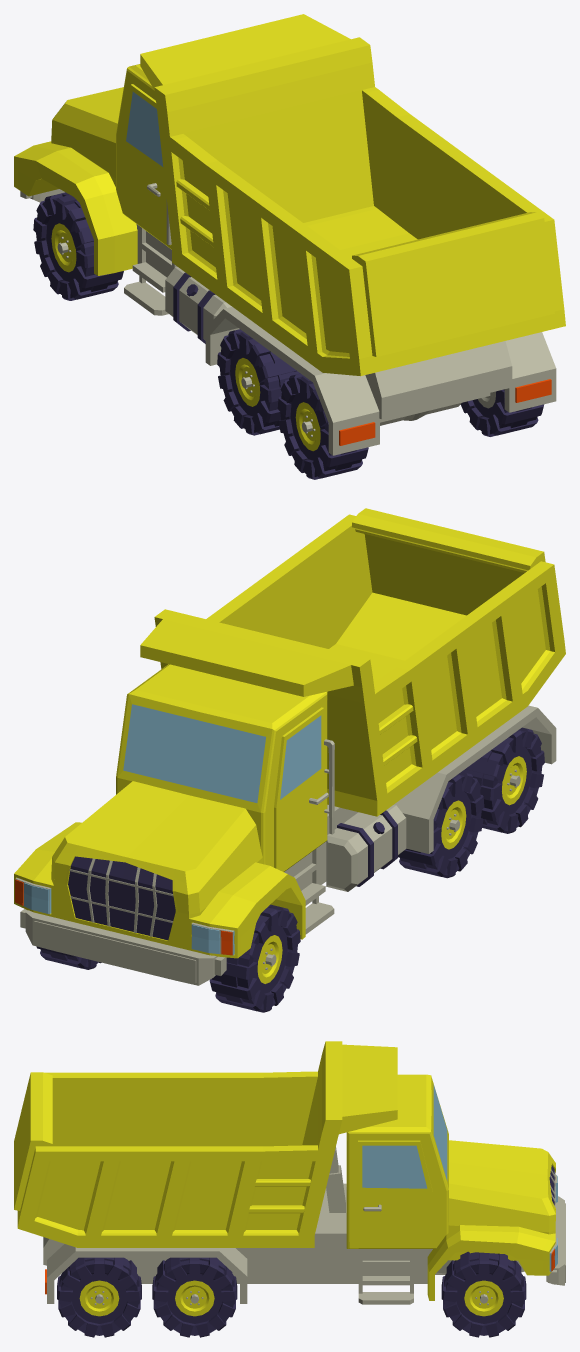
Rendered from truck.fbx.
3 views of the same model, one above another, from view 1: azimuth 30°, elevation 25°; view 2: azimuth 150°, elevation 25°; view 3: azimuth 270°, elevation 25° (orthographic). The views are drawn at different scales.
Parts seen in each view (by area): view 1: Cube.039, Cube.040, Cube.025, Cube.024, Cube.026, Cylinder.009, Cylinder.011, Cylinder.010, Cube.028, Cube.029, Cube.041, Cube.033 (+4 smaller); view 2: Cube.039, Cube.028, Cube.027, Cube.040, Cube.048, Cube.031, Cube.026, Cube.032, Cylinder.011, Cylinder.009, Cube.025, Cylinder.010 (+9 smaller); view 3: Cube.039, Cube.028, Cube.024, Cube.027, Cylinder.011, Cylinder.010, Cylinder.009, Cube.029, Cube.026, Cube.040, Cube.025, Cube.030 (+4 smaller).
Part boxes in pixels (<box>): Cube.039: <box>140,14,565,376</box>; Cube.040: <box>352,212,554,356</box>; Cube.025: <box>205,306,556,455</box>; Cube.024: <box>136,224,512,422</box>; Cube.026: <box>14,141,137,275</box>; Cylinder.009: <box>277,373,543,479</box>; Cylinder.011: <box>33,192,123,300</box>; Cylinder.010: <box>217,329,300,435</box>; Cube.028: <box>51,87,123,186</box>; Cube.029: <box>122,84,171,245</box>; Cube.041: <box>165,267,231,340</box>; Cube.033: <box>124,226,177,315</box>; Cube.039: <box>140,514,565,816</box>; Cube.028: <box>51,781,262,918</box>; Cube.027: <box>116,664,327,871</box>; Cube.040: <box>352,508,545,615</box>; Cube.048: <box>54,842,188,950</box>; Cube.031: <box>123,704,265,802</box>; Cube.026: <box>14,822,305,958</box>; Cube.032: <box>20,909,226,985</box>; Cylinder.011: <box>36,904,300,1012</box>; Cylinder.009: <box>462,727,544,833</box>; Cube.025: <box>394,705,556,853</box>; Cylinder.010: <box>398,772,484,878</box>; Cube.039: <box>17,1041,397,1247</box>; Cube.028: <box>448,1140,555,1260</box>; Cube.024: <box>43,1183,524,1283</box>; Cube.027: <box>346,1074,448,1248</box>; Cylinder.011: <box>441,1251,526,1337</box>; Cylinder.010: <box>152,1257,237,1337</box>; Cylinder.009: <box>57,1257,141,1337</box>; Cube.029: <box>358,1140,432,1245</box>; Cube.026: <box>427,1225,555,1300</box>; Cube.040: <box>14,1072,52,1210</box>; Cube.025: <box>47,1244,247,1303</box>; Cube.030: <box>362,1145,427,1188</box>.
Size of the model in its own units: 300 by 815 by 356.
